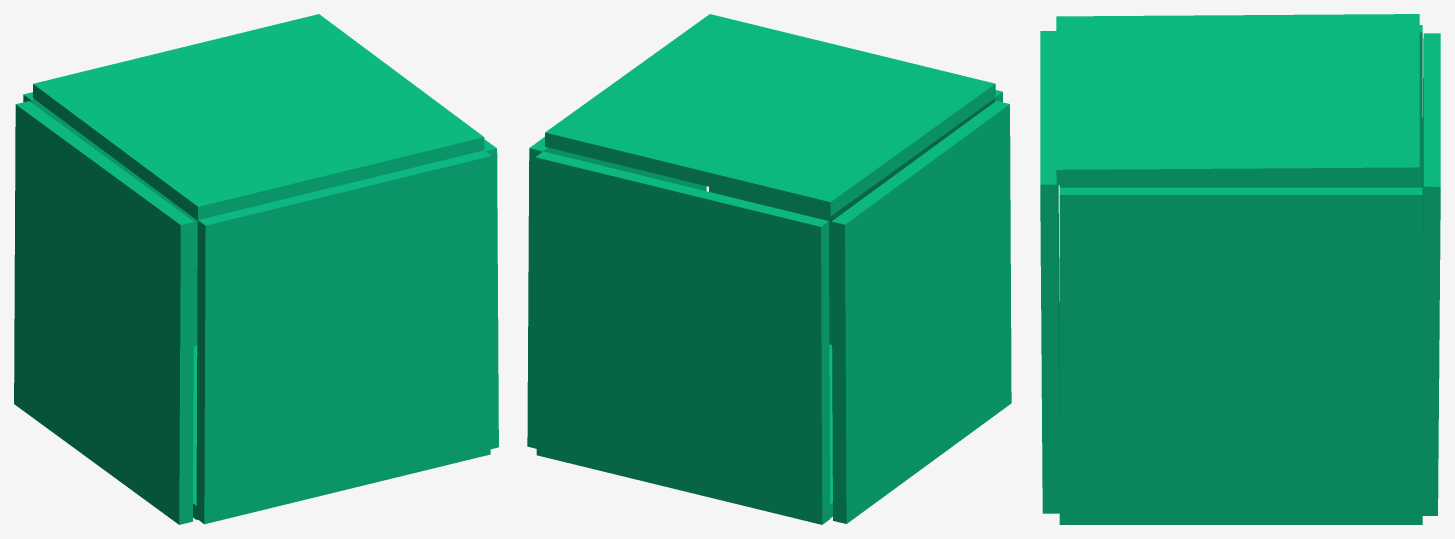
File: menutup.obj
The picture shows the model from 3 angles, left to right: view 1: azimuth 30°, elevation 25°; view 2: azimuth 150°, elevation 25°; view 3: azimuth 270°, elevation 25°; orthographic projection. The views are drawn at different scales.
Visible parts, largest first — view 1: depan, kiri, atas, kanan, belakag, bawah; view 2: belakag, kiri, atas, kanan, depan, bawah; view 3: kanan, atas, depan, belakag, kiri.
Part boxes in pixels (x1,y1,x2,y2): depan: (196, 150, 491, 524); kiri: (14, 101, 194, 524); atas: (33, 14, 484, 220); kanan: (484, 139, 498, 449); belakag: (23, 92, 197, 345); bawah: (193, 345, 197, 519); belakag: (535, 151, 829, 524); kiri: (831, 101, 1011, 523); atas: (545, 14, 995, 216); kanan: (527, 137, 706, 448); depan: (709, 90, 1002, 344); bawah: (829, 344, 832, 518); kanan: (1059, 187, 1422, 524); atas: (1056, 14, 1419, 185); depan: (1040, 31, 1059, 513); belakag: (1422, 33, 1440, 515); kiri: (1059, 25, 1422, 187).
Size of the model in its own units: 2.23 by 2.12 by 2.21.
